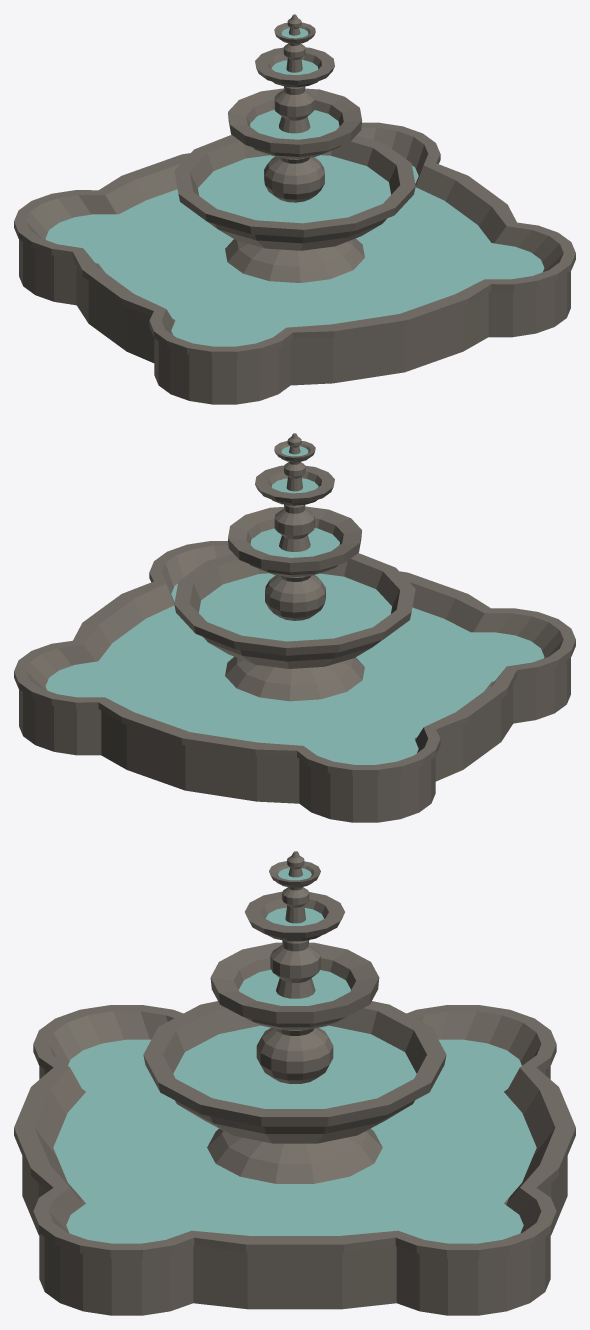
File: D1_FOUNTAIN.fbx
The picture shows the model from 3 angles, top to bottom: view 1: azimuth 30°, elevation 25°; view 2: azimuth 150°, elevation 25°; view 3: azimuth 270°, elevation 25°; orthographic projection. The views are drawn at different scales.
Visible parts, largest first — view 1: D1_FUENTE; view 2: D1_FUENTE; view 3: D1_FUENTE.
Boxes of the visible parts, left/top/right/bottom form: D1_FUENTE: left=14, top=14, right=575, bottom=404; D1_FUENTE: left=14, top=433, right=575, bottom=822; D1_FUENTE: left=14, top=851, right=575, bottom=1315.
Size of the model in its own units: 862 by 563 by 836.
